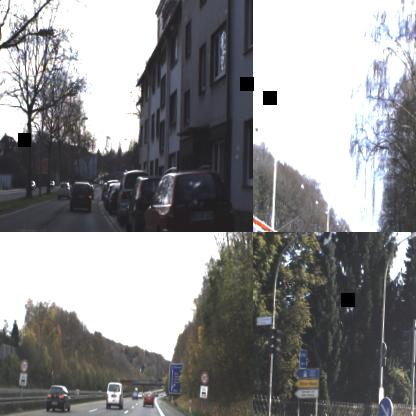keep right: (376, 395, 393, 416)
speed limit 80: (19, 358, 28, 373), (199, 370, 208, 385)
